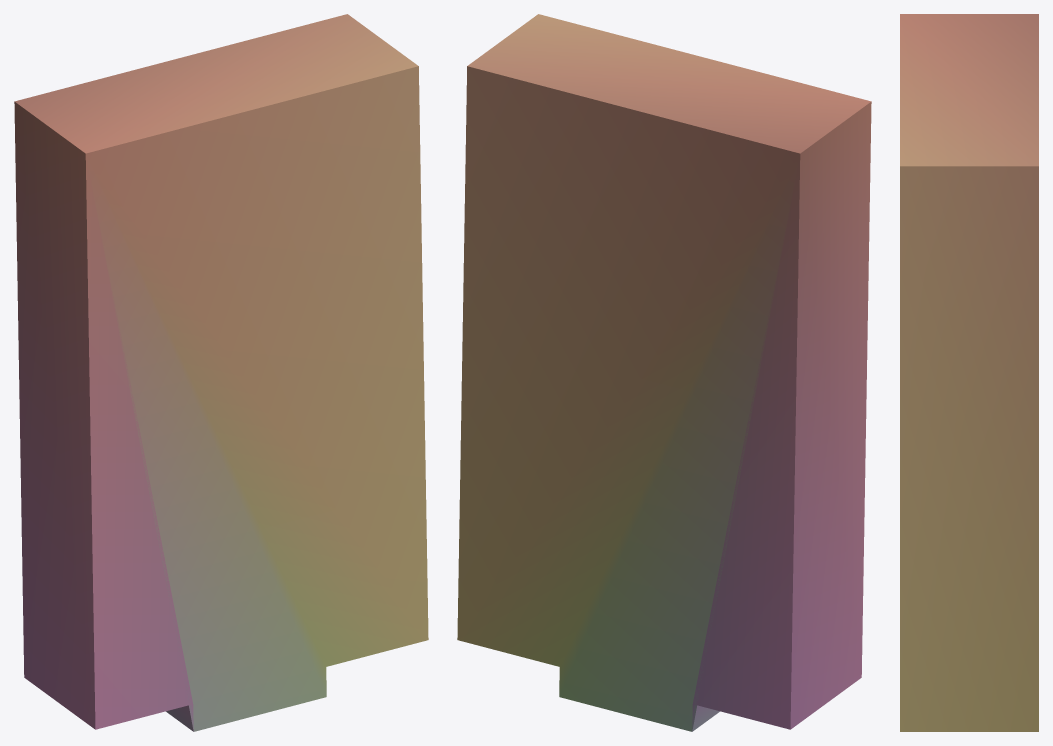
The model's file is my_region.glb.
3 views of the same model, side by side, from view 1: azimuth 30°, elevation 25°; view 2: azimuth 150°, elevation 25°; view 3: azimuth 270°, elevation 25° (orthographic). The views are drawn at different scales.
Visible parts, largest first — view 1: world; view 2: world; view 3: world.
Part boxes in pixels (bbox=[...]): world: bbox=[14, 14, 428, 731]; world: bbox=[457, 14, 871, 731]; world: bbox=[900, 14, 1038, 731].
Size of the model in its own units: 68.05 by 116 by 24.5.
